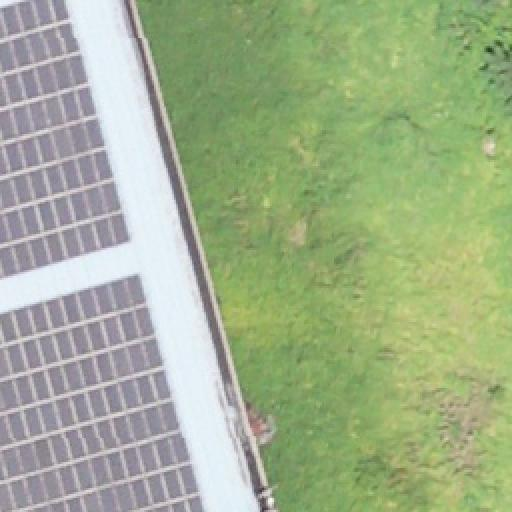solar-panel: (0, 272, 208, 512), (0, 0, 132, 280)
